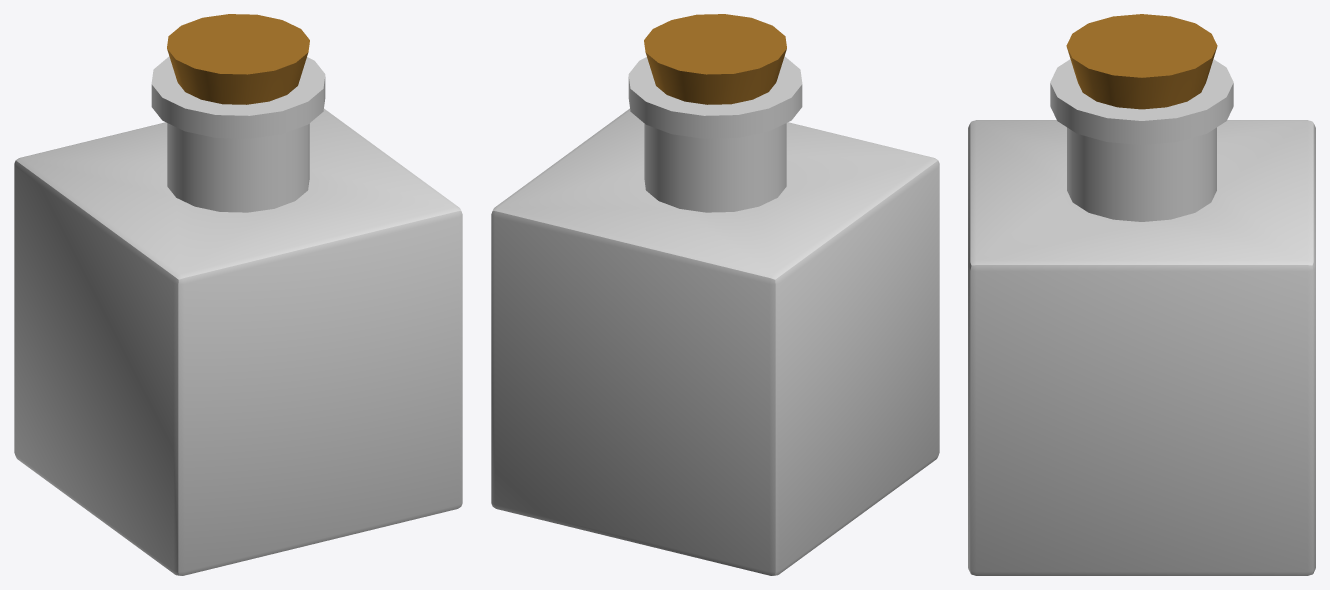
The model's file is bottle_cube.fbx.
The picture shows the model from 3 angles, left to right: view 1: azimuth 30°, elevation 25°; view 2: azimuth 150°, elevation 25°; view 3: azimuth 270°, elevation 25°; orthographic projection. The views are drawn at different scales.
Visible parts, largest first — view 1: Bottle.Low, BottleCup.Low; view 2: Bottle.Low, BottleCup.Low; view 3: Bottle.Low, BottleCup.Low.
Boxes of the visible parts, x1,y1,x2,y2 form: Bottle.Low: (14,56,462,575); BottleCup.Low: (167,14,309,104); Bottle.Low: (491,56,939,575); BottleCup.Low: (644,14,786,104); Bottle.Low: (968,59,1315,575); BottleCup.Low: (1066,14,1217,109).
Size of the model in its own units: 273 by 398 by 273.
